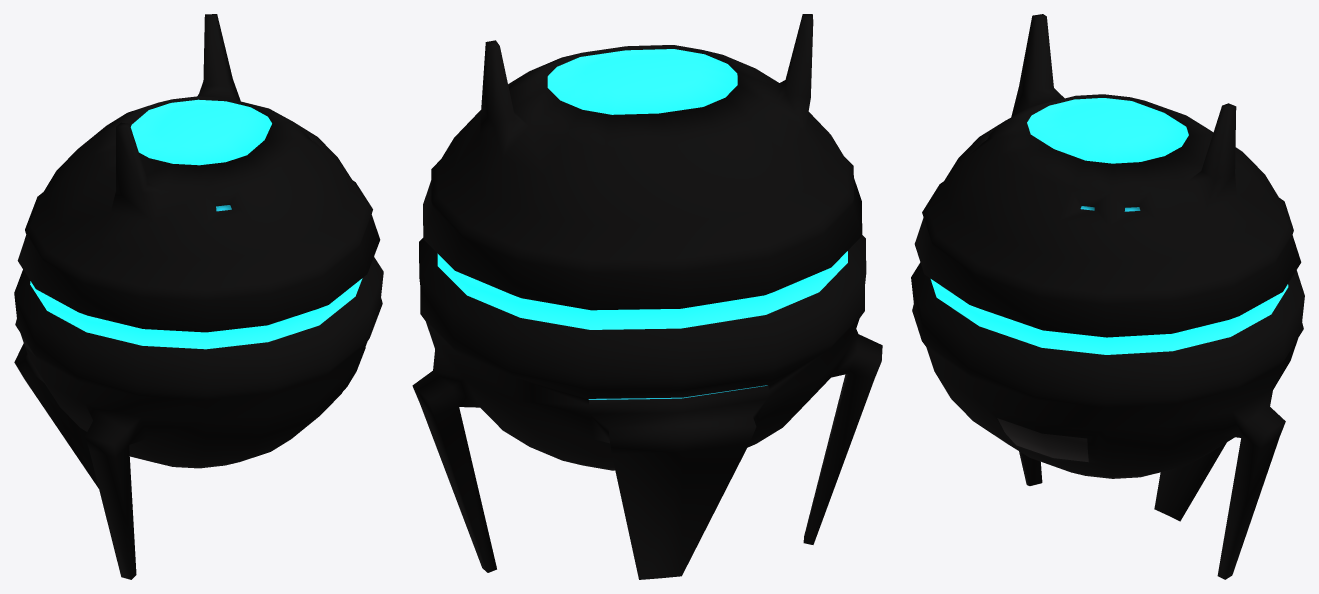
The model's file is spacedrone.gltf.
3 views of the same model, side by side, from view 1: azimuth 30°, elevation 25°; view 2: azimuth 150°, elevation 25°; view 3: azimuth 270°, elevation 25° (orthographic). The views are drawn at different scales.
Visible parts, largest first — view 1: Sphere; view 2: Sphere; view 3: Sphere.
Boxes of the visible parts, x1,y1,x2,y2 form: Sphere: (14, 14, 383, 579); Sphere: (412, 14, 882, 579); Sphere: (911, 14, 1304, 579).
Bounding box in the file's own units: 211 × 275 × 209.
